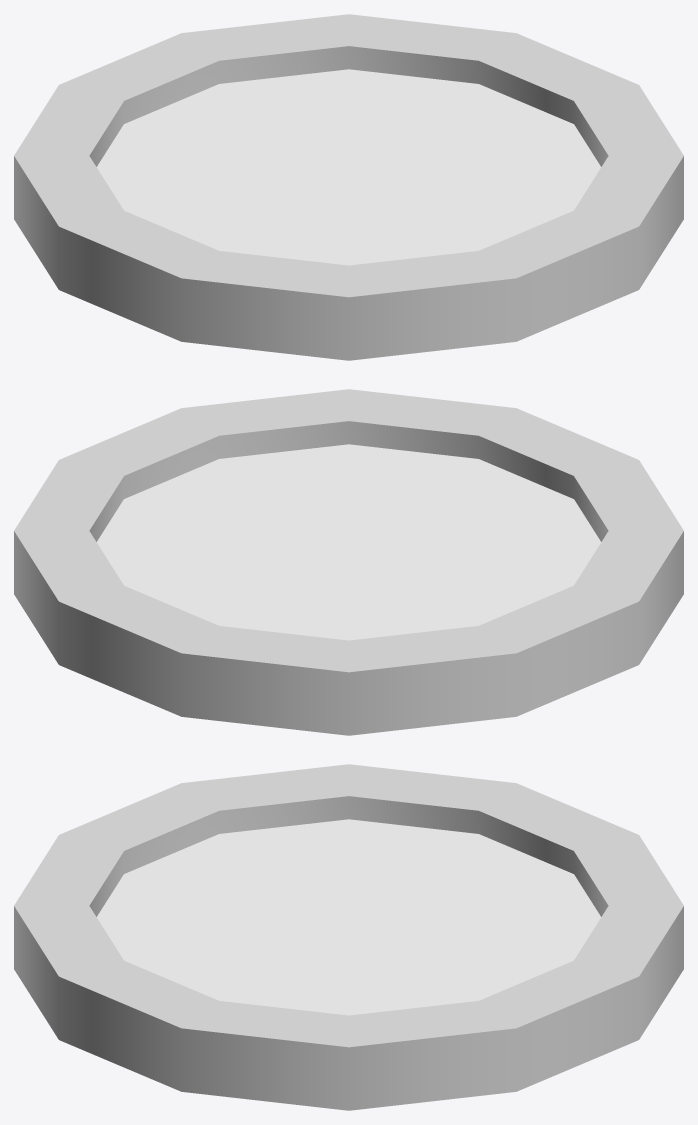
Rendered from guncerto_Targets.fbx.
3 renders of one model, top to bottom at view 1: azimuth 30°, elevation 25°; view 2: azimuth 150°, elevation 25°; view 3: azimuth 270°, elevation 25°, orthographic.
Visible parts, largest first — view 1: target_pistol; view 2: target_pistol; view 3: target_pistol.
Boxes of the visible parts, <box> form: target_pistol: <box>14,14,683,360</box>; target_pistol: <box>14,389,683,735</box>; target_pistol: <box>14,764,683,1110</box>.
Size of the model in its own units: 1 by 0.1045 by 1.
